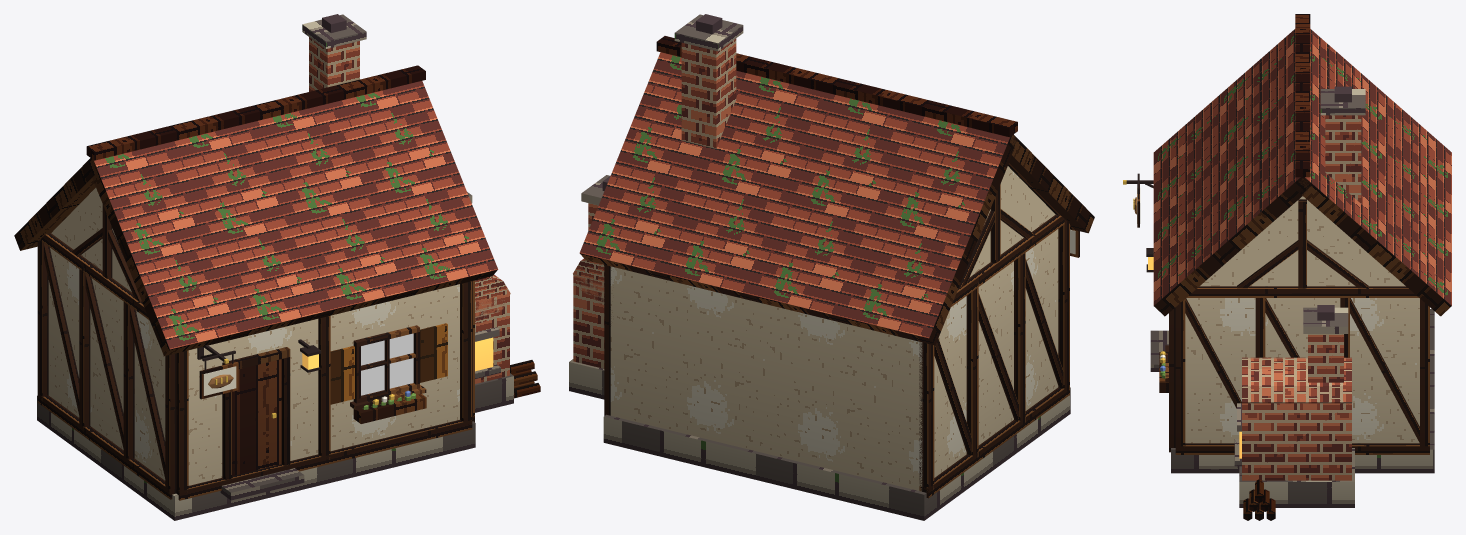
Rendered from bakery.glb.
3 views of the same model, side by side, from view 1: azimuth 30°, elevation 25°; view 2: azimuth 150°, elevation 25°; view 3: azimuth 270°, elevation 25° (orthographic). The views are drawn at different scales.
Parts seen in each view (by area): view 1: bakery; view 2: bakery; view 3: bakery.
Part boxes in pixels (box(x1,y1,x2,y2)): bakery: box(14, 14, 540, 520); bakery: box(569, 14, 1094, 520); bakery: box(1123, 14, 1451, 520).
Size of the model in its own units: 8.02 by 6.86 by 5.69.
Materials: 8 (5 with a texture image).
